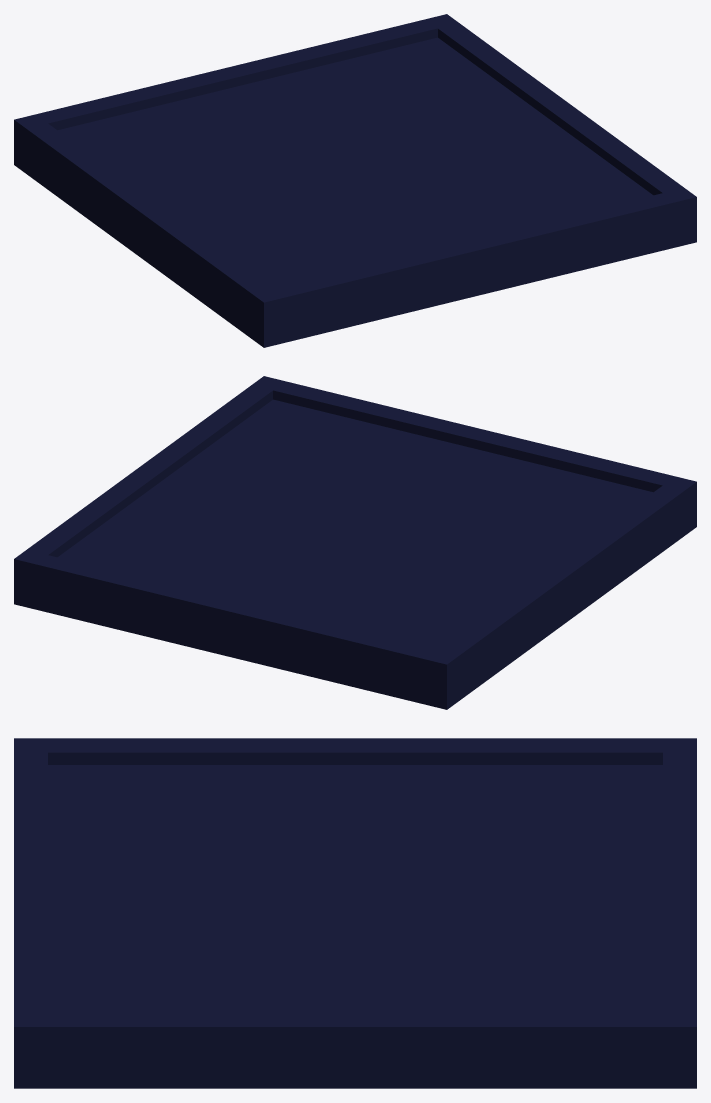
The model's file is tile2.glb.
The picture shows the model from 3 angles, top to bottom: view 1: azimuth 30°, elevation 25°; view 2: azimuth 150°, elevation 25°; view 3: azimuth 270°, elevation 25°; orthographic projection. The views are drawn at different scales.
Parts seen in each view (by area): view 1: Cube; view 2: Cube; view 3: Cube.
Boxes of the visible parts, box(x1,y1,x2,y2) form: Cube: box(14, 14, 696, 347); Cube: box(14, 376, 696, 709); Cube: box(14, 738, 696, 1088).
Bounding box in the file's own units: 10 × 1 × 10.
1 material, 1 textured.
